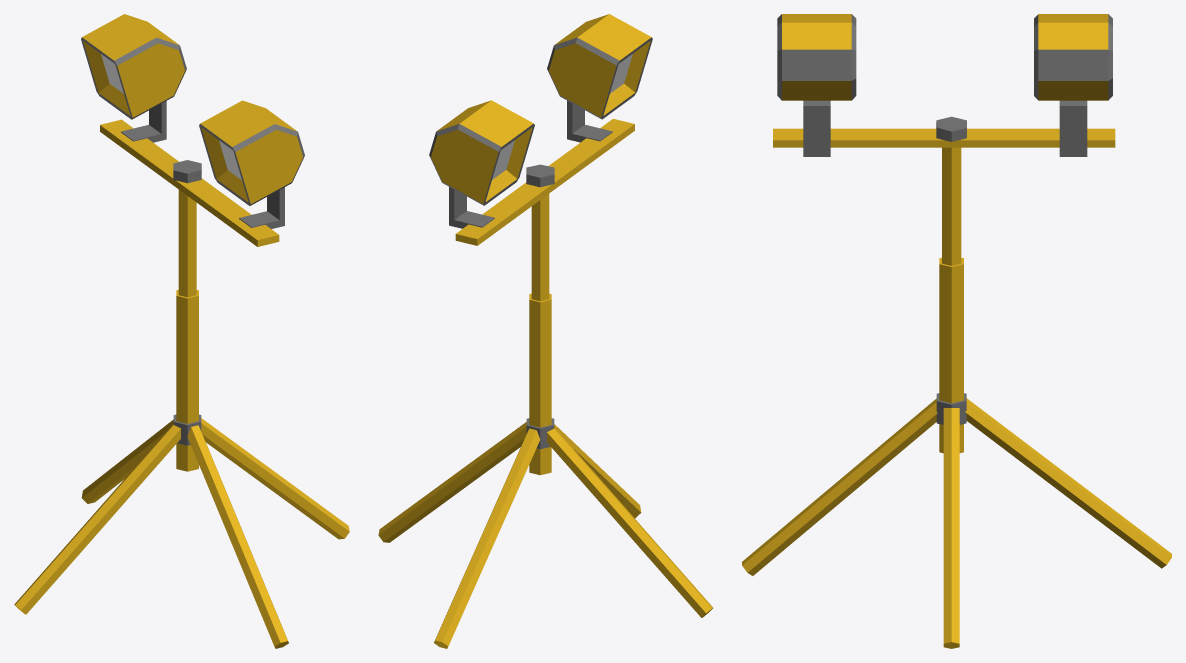
Rendered from Build_Light.fbx.
3 views of the same model, side by side, from view 1: azimuth 30°, elevation 25°; view 2: azimuth 150°, elevation 25°; view 3: azimuth 270°, elevation 25° (orthographic). The views are drawn at different scales.
Visible parts, largest first — view 1: Build_Light; view 2: Build_Light; view 3: Build_Light.
Part boxes in pixels (x1,y1,x2,y2): Build_Light: (14, 14, 349, 648); Build_Light: (378, 14, 712, 648); Build_Light: (742, 14, 1171, 648).
Size of the model in its own units: 0.7668 by 1.13 by 0.7886.
